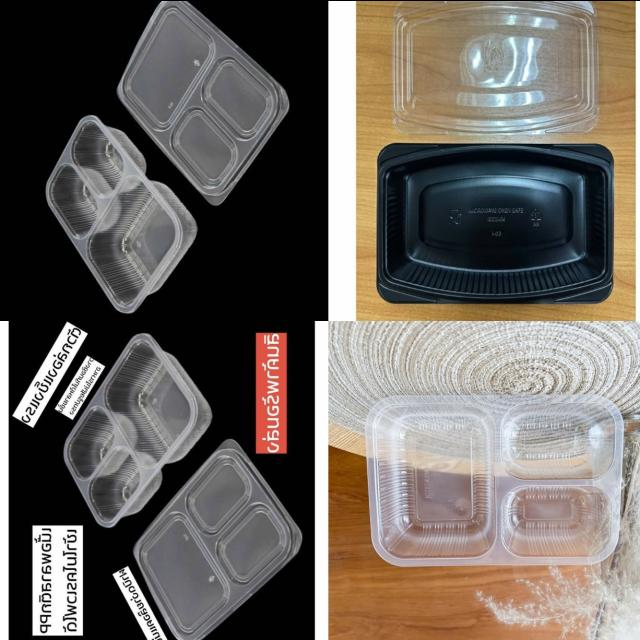plastik: (366, 394, 625, 564), (378, 143, 612, 302), (117, 0, 289, 204), (135, 440, 301, 640), (46, 114, 197, 312), (65, 333, 211, 526), (394, 0, 598, 133)
